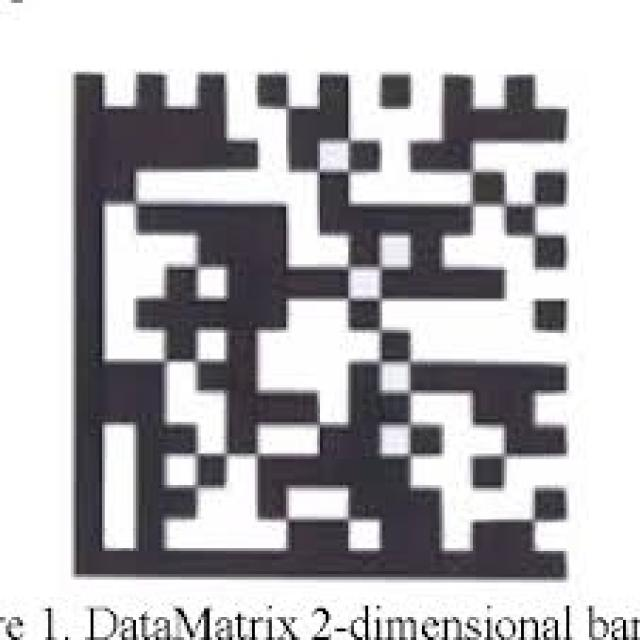datamatrix: (60, 60, 586, 591)
